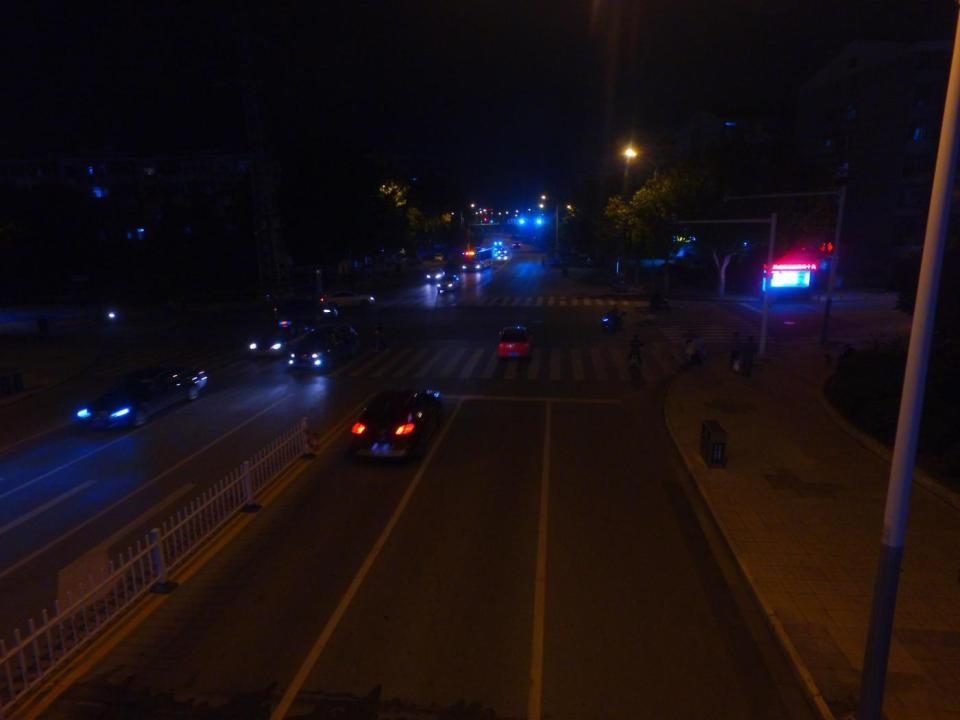bus: (460, 246, 495, 274)
car: (76, 356, 206, 432), (350, 383, 444, 463), (286, 326, 358, 370), (247, 322, 313, 356), (319, 287, 376, 310), (496, 328, 535, 360), (437, 275, 460, 293), (425, 268, 444, 283), (491, 238, 503, 247), (498, 254, 509, 262), (588, 257, 596, 268), (512, 241, 521, 250), (498, 249, 507, 258)
